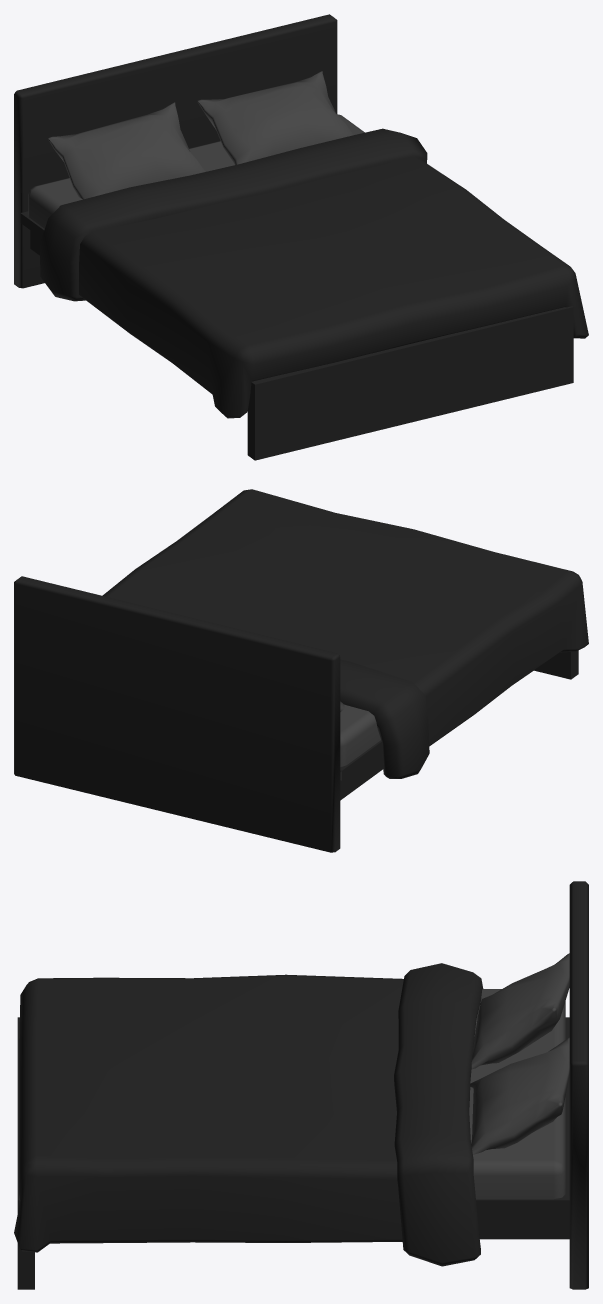
The model's file is bed_020.fbx.
3 views of the same model, one above another, from view 1: azimuth 30°, elevation 25°; view 2: azimuth 150°, elevation 25°; view 3: azimuth 270°, elevation 25° (orthographic). The views are drawn at different scales.
Visible parts, largest first — view 1: bed_020; view 2: bed_020; view 3: bed_020.
Boxes of the visible parts, box(x1,y1,x2,y2) form: bed_020: box(14, 14, 588, 460); bed_020: box(14, 489, 588, 852); bed_020: box(14, 881, 588, 1289).
Bounding box in the file's own units: 219 × 254 × 111.
